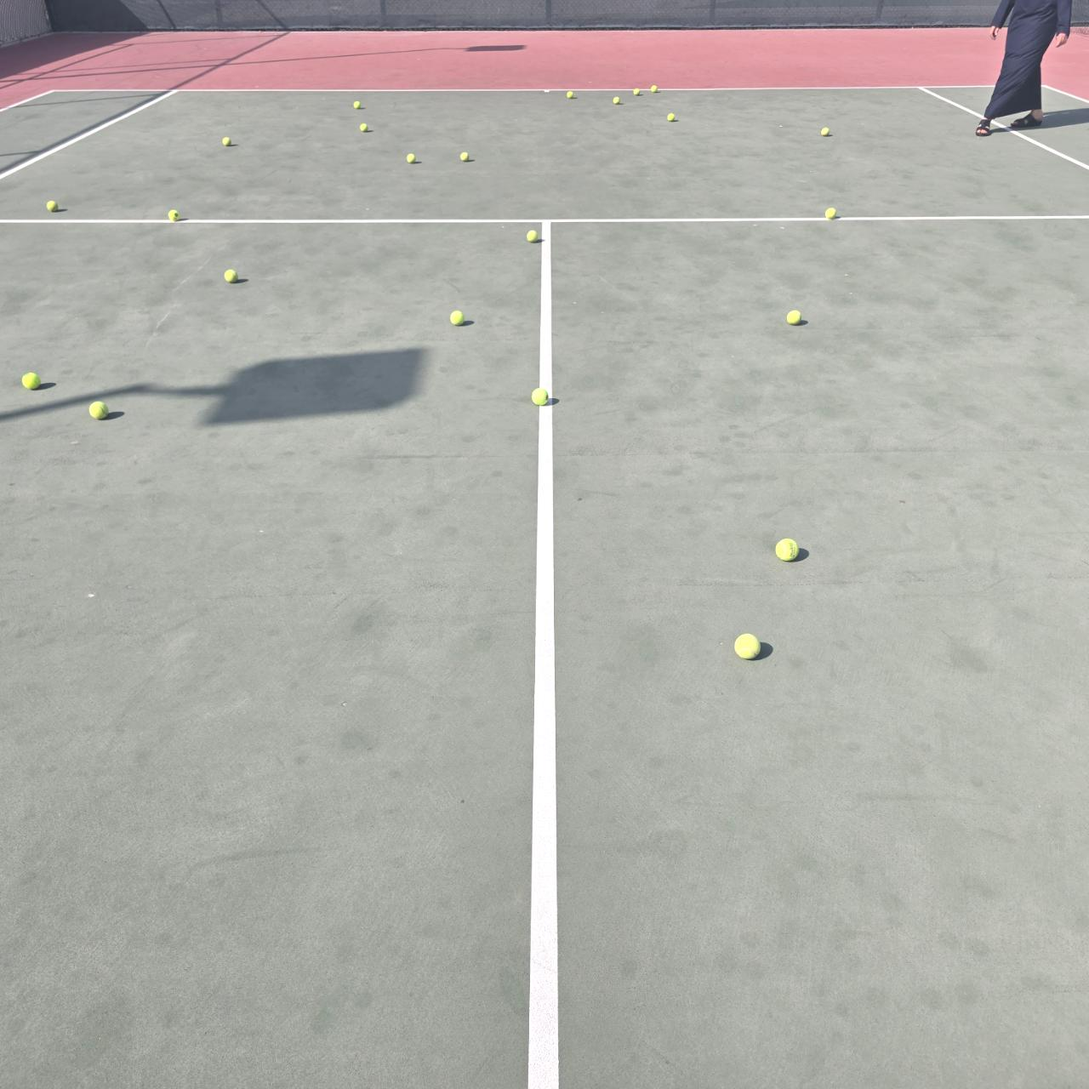tennis-ball: (734, 630, 763, 659), (775, 535, 801, 562), (89, 398, 110, 419), (23, 369, 42, 389), (532, 385, 550, 405), (786, 307, 804, 325), (450, 308, 465, 325), (224, 269, 239, 282), (527, 230, 539, 242), (168, 210, 179, 222), (825, 208, 836, 220), (47, 201, 58, 211), (406, 154, 416, 164), (460, 151, 469, 162), (222, 137, 232, 146), (360, 123, 369, 132), (821, 128, 830, 136), (353, 101, 361, 109), (566, 91, 574, 99), (650, 85, 658, 93), (667, 113, 675, 121), (613, 97, 620, 105), (633, 88, 639, 96)
